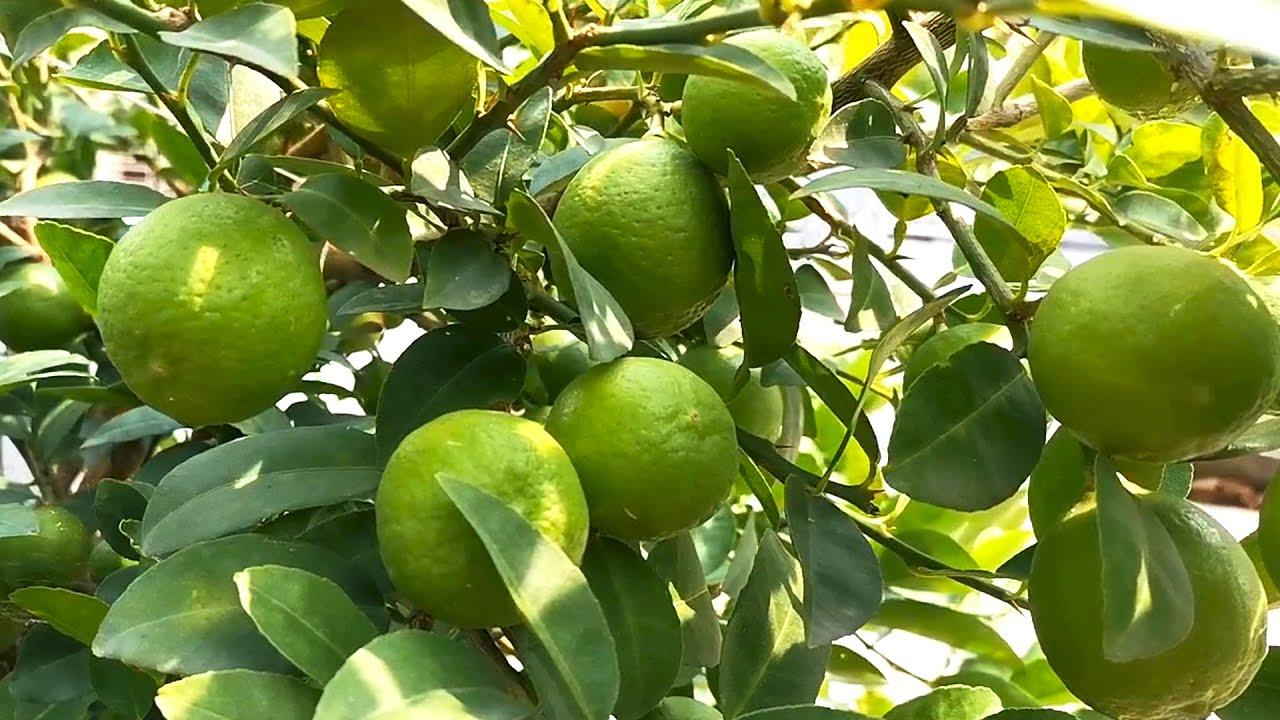lime: (88, 181, 337, 427), (1021, 237, 1273, 479), (1026, 497, 1276, 709), (387, 404, 590, 633), (548, 128, 740, 347), (548, 356, 742, 547), (668, 22, 834, 181)
